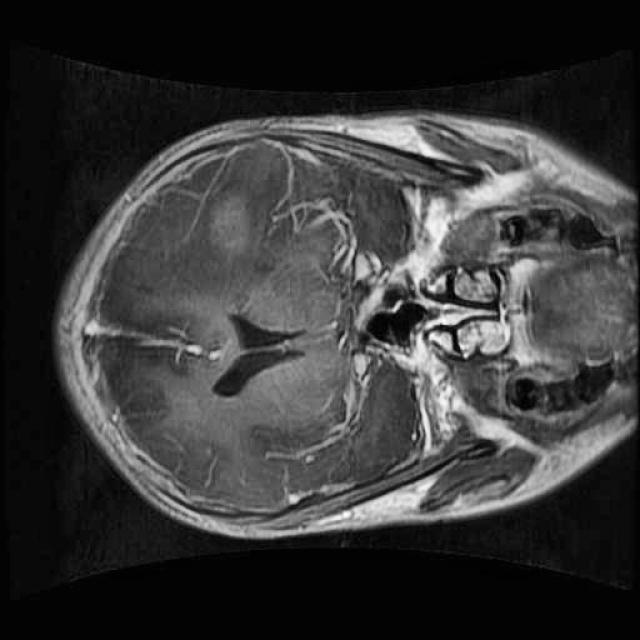Tumor: (188, 171, 278, 273)
